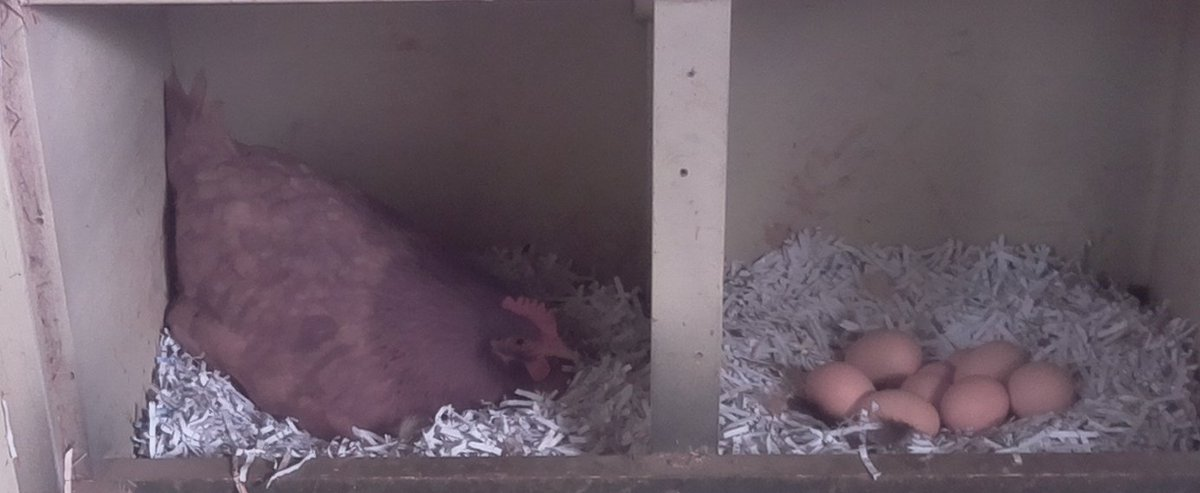egg: (850, 387, 942, 447), (1005, 359, 1080, 420), (941, 374, 1013, 437), (799, 361, 880, 415), (843, 327, 926, 379), (952, 338, 1031, 383), (894, 357, 955, 400)
hen: (159, 87, 592, 441)
